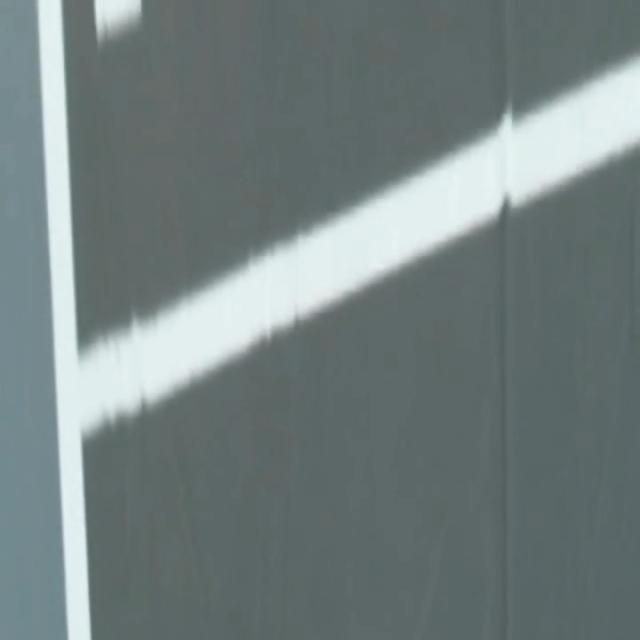left: (37, 0, 91, 639)
